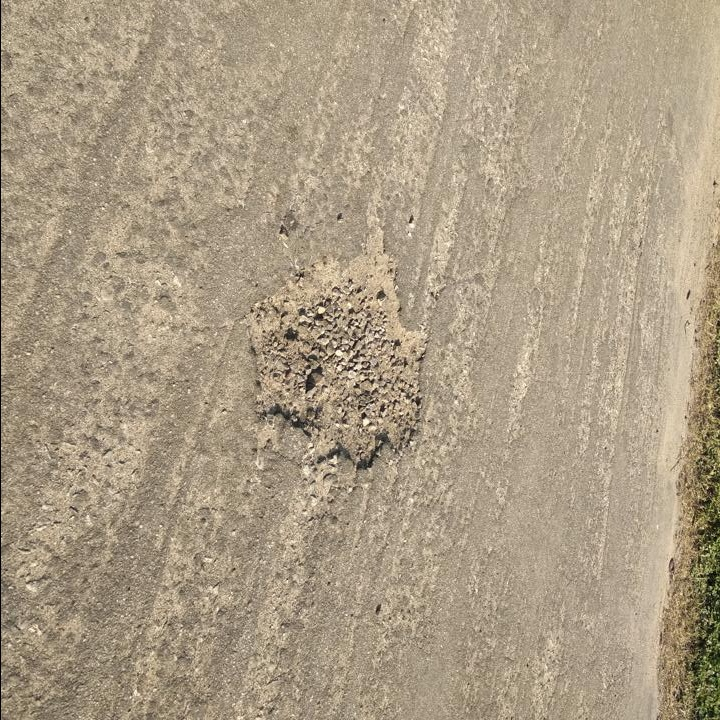pothole: (242, 220, 430, 473)
